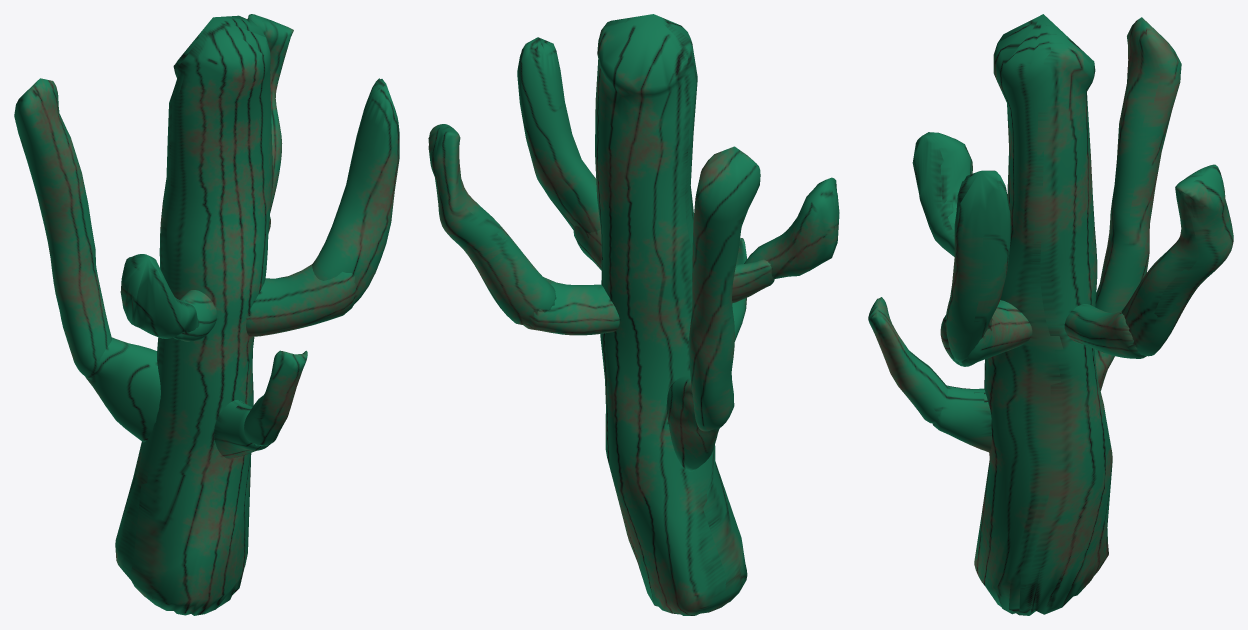
File: Cactus.FBX
The picture shows the model from 3 angles, left to right: view 1: azimuth 30°, elevation 25°; view 2: azimuth 150°, elevation 25°; view 3: azimuth 270°, elevation 25°; orthographic projection. The views are drawn at different scales.
Visible parts, largest first — view 1: Cylinder001; view 2: Cylinder001; view 3: Cylinder001.
Part boxes in pixels (left/top/right/bottom): Cylinder001: left=14, top=14, right=399, bottom=615; Cylinder001: left=428, top=14, right=839, bottom=615; Cylinder001: left=868, top=14, right=1233, bottom=615.
Bounding box in the file's own units: 31.05 × 56.83 × 30.94.
1 material, 1 textured.
